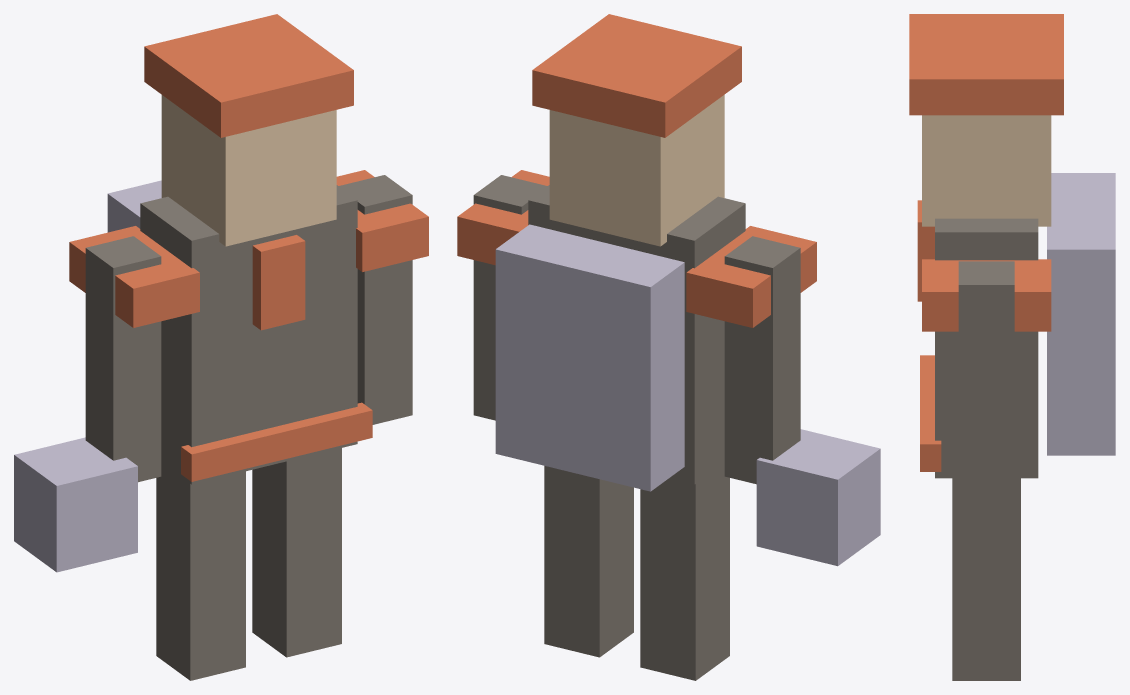
File: 14_dax_trenchmark_tactician_at_memory.glb
The picture shows the model from 3 angles, left to right: view 1: azimuth 30°, elevation 25°; view 2: azimuth 150°, elevation 25°; view 3: azimuth 270°, elevation 25°; orthographic projection.
Visible parts, largest first — view 1: Dax Trenchmark, Tactician at Memory; view 2: Dax Trenchmark, Tactician at Memory; view 3: Dax Trenchmark, Tactician at Memory.
Part boxes in pixels (box(x1,y1,x2,y2)): Dax Trenchmark, Tactician at Memory: box(14, 14, 428, 680); Dax Trenchmark, Tactician at Memory: box(457, 14, 880, 680); Dax Trenchmark, Tactician at Memory: box(909, 14, 1115, 680).
Bounding box in the file's own units: 0.9693 × 1.49 × 0.4676.
